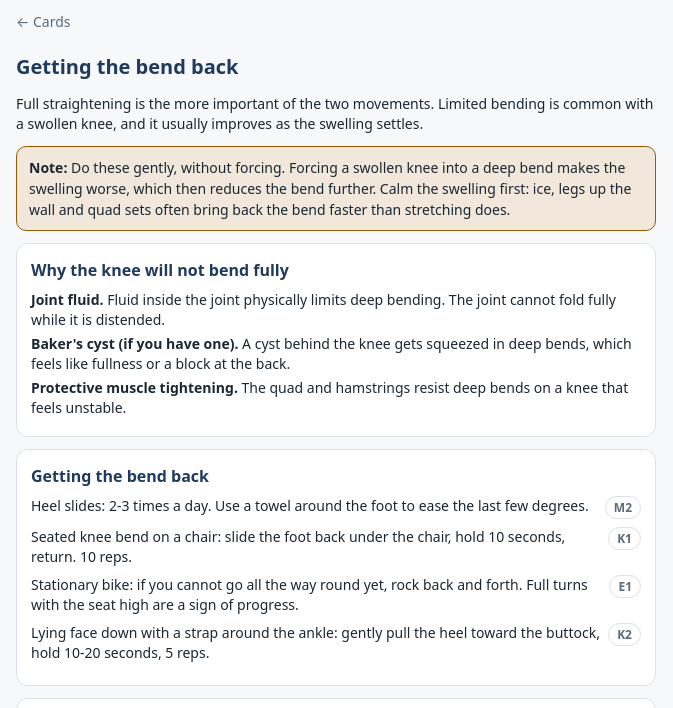
Test: Bend guide › explains cross-legged sitting and links to the new cards
The image size is (673, 708).
Click the link named "Open card K1": click(625, 539) [608,527,641,550]
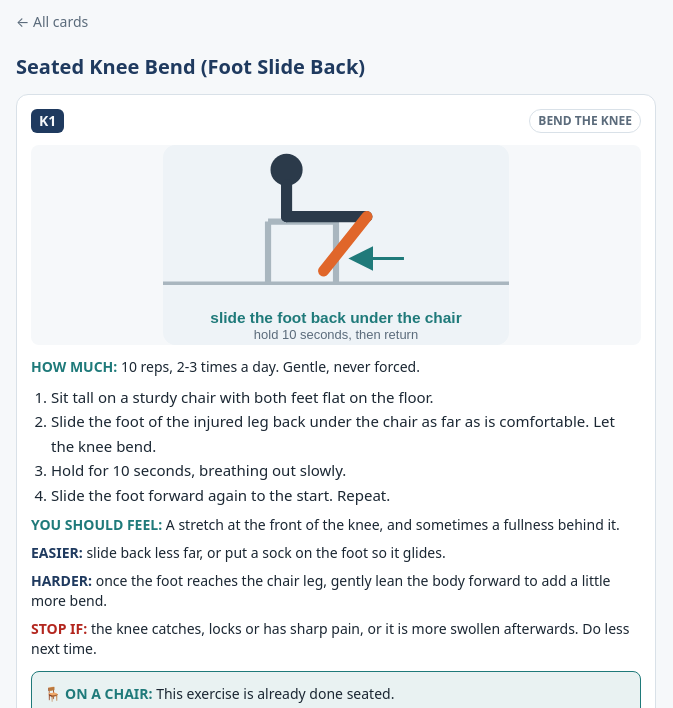
Expected: the list item "Slide the foot of the injured leg back" is shown, [51,411,615,456]
